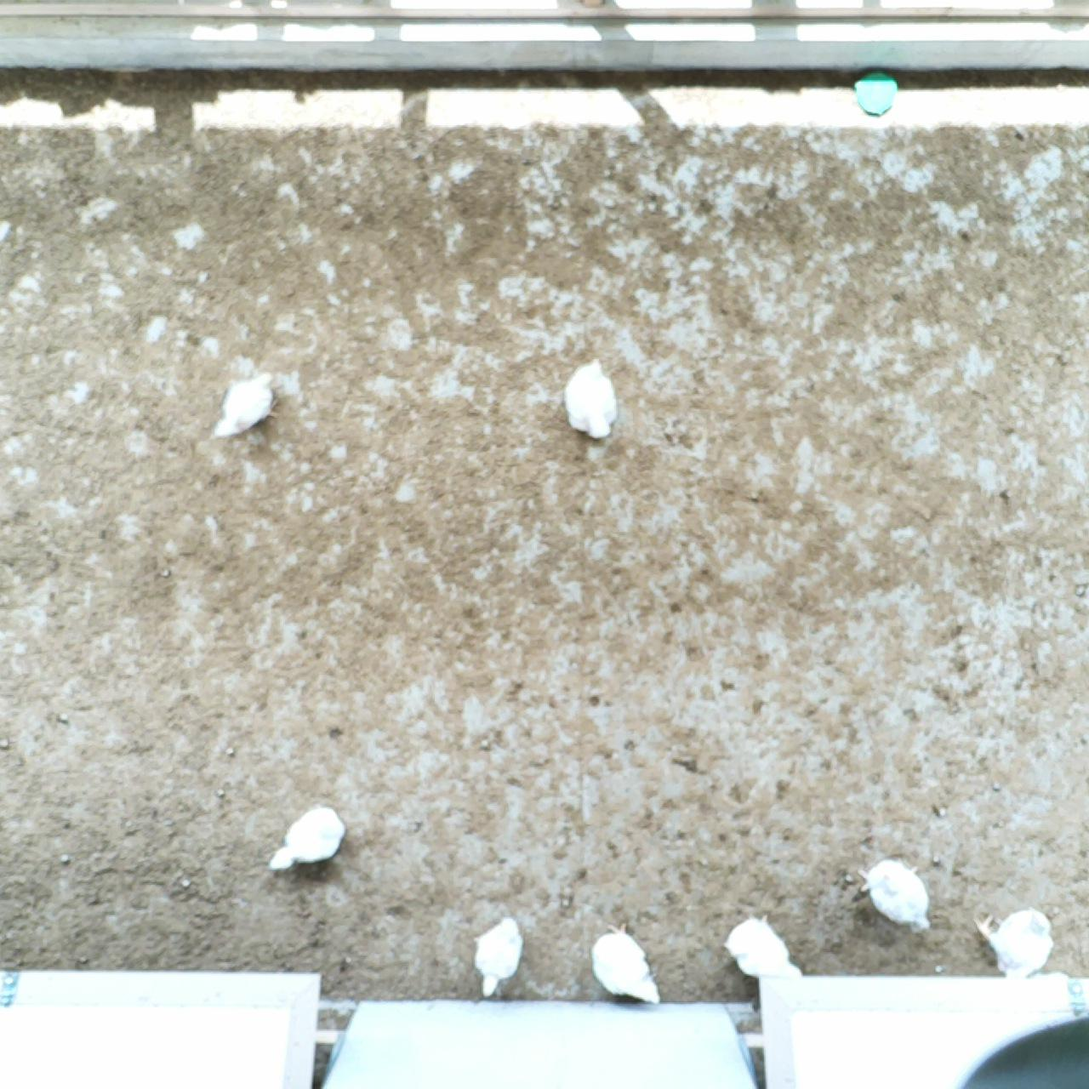chicken: (854, 851, 939, 941), (969, 898, 1059, 982), (717, 909, 810, 988), (589, 919, 667, 1008), (559, 352, 627, 443), (207, 365, 283, 443), (265, 800, 346, 873), (470, 913, 527, 1000)
